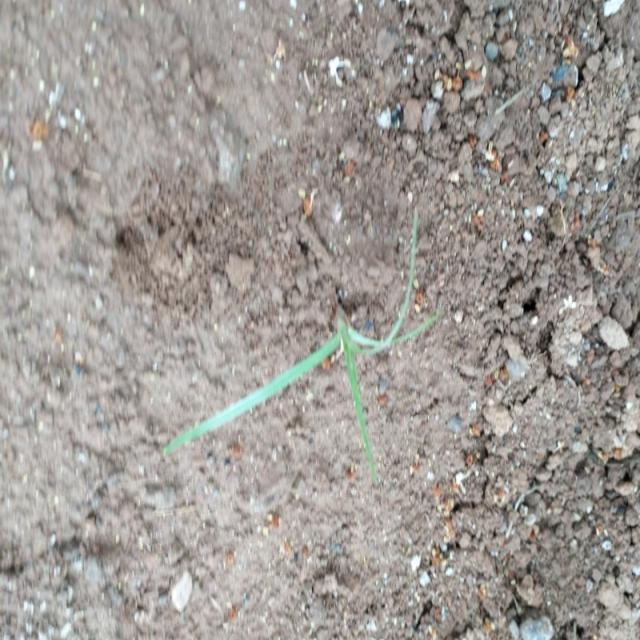sedge: (147, 258, 452, 474)
